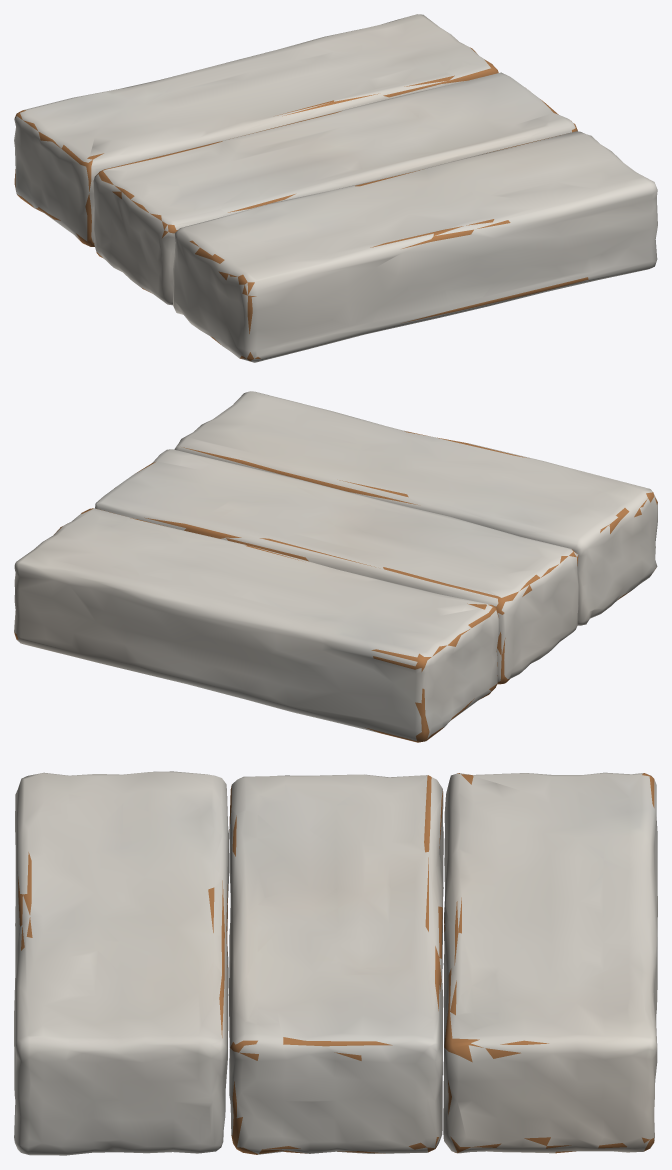
Rendered from frost_sill_ledge_inner.glb.
3 renders of one model, top to bottom at view 1: azimuth 30°, elevation 25°; view 2: azimuth 150°, elevation 25°; view 3: azimuth 270°, elevation 25°, orthographic. The views are drawn at different scales.
Parts seen in each view (by area): view 1: frost_sill_ledge_inner; view 2: frost_sill_ledge_inner; view 3: frost_sill_ledge_inner.
Boxes of the visible parts, x1=… form: frost_sill_ledge_inner: x1=14, y1=14, x2=657, y2=362; frost_sill_ledge_inner: x1=14, y1=391, x2=657, y2=742; frost_sill_ledge_inner: x1=14, y1=771, x2=657, y2=1155.
Bounding box in the file's own units: 20.15 × 4.22 × 20.
